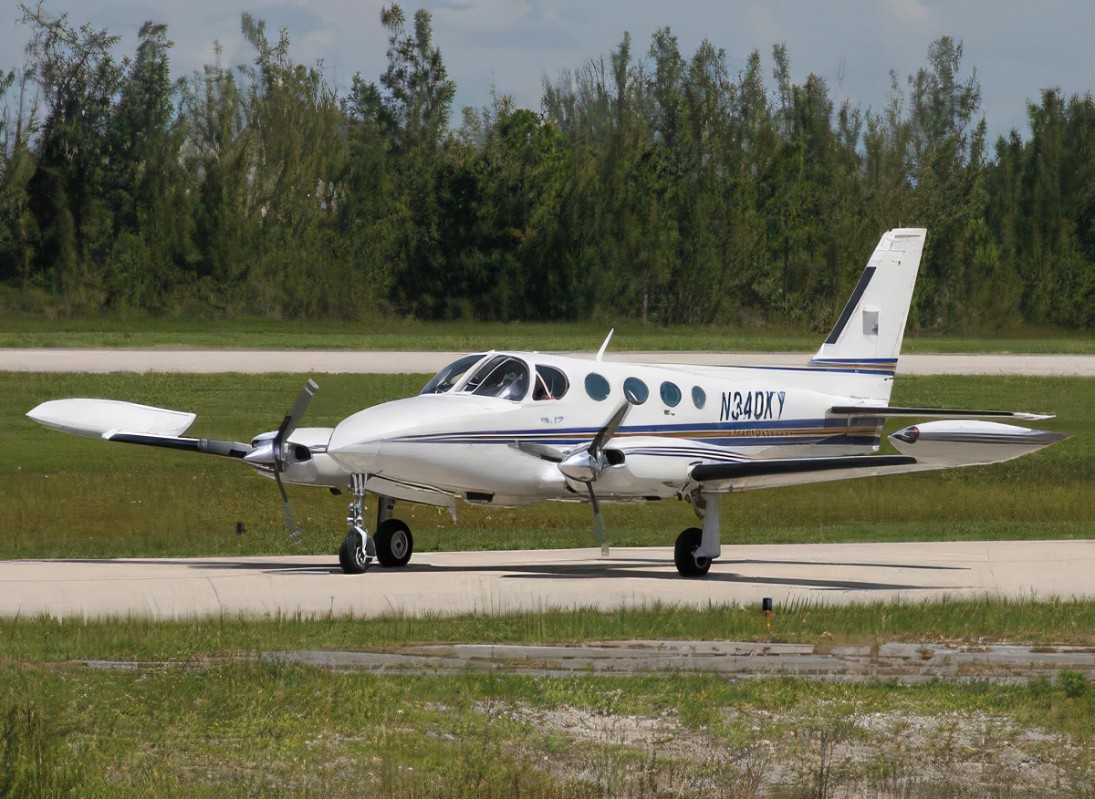Aeronef_commercial: (32, 218, 1083, 591)
